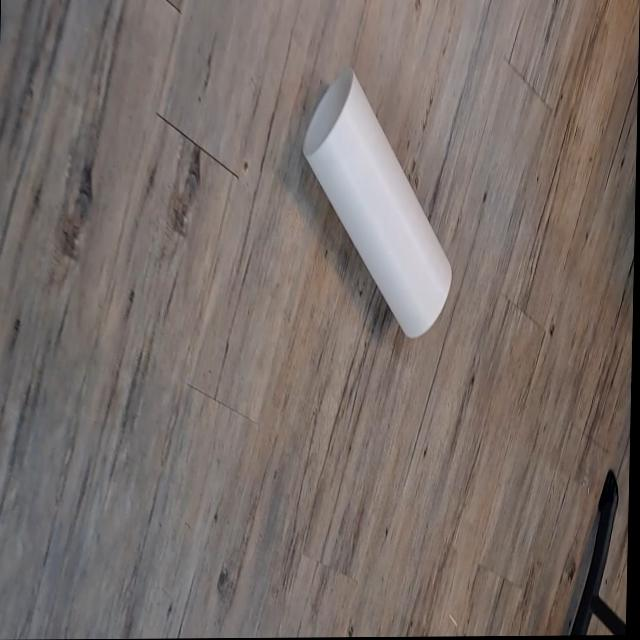CORAL: (293, 65, 463, 352)
